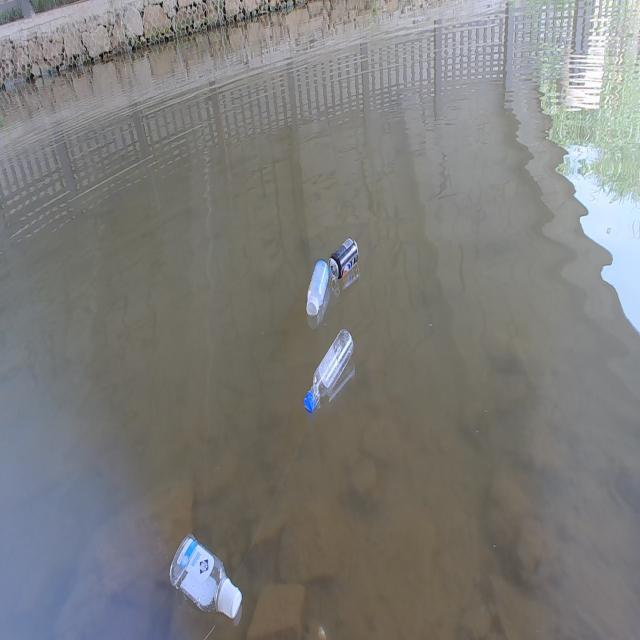bottle: (164, 527, 247, 623), (300, 327, 359, 415), (299, 258, 335, 318)
